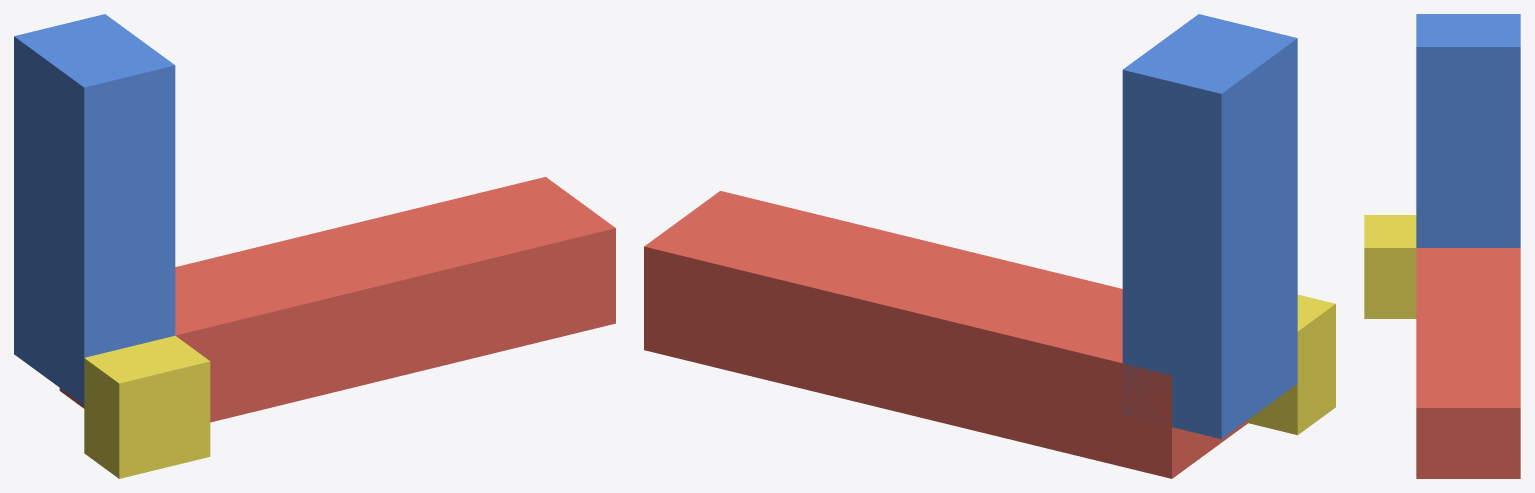
The model's file is bracket.glb.
3 renders of one model, left to right at view 1: azimuth 30°, elevation 25°; view 2: azimuth 150°, elevation 25°; view 3: azimuth 270°, elevation 25°, orthographic. The views are drawn at different scales.
Visible parts, largest first — view 1: BracketBase, BracketUpright, BracketMarker; view 2: BracketBase, BracketUpright, BracketMarker; view 3: BracketUpright, BracketBase, BracketMarker.
Part boxes in pixels (x1,y1,x2,y2): BracketBase: (59,177,615,422); BracketUpright: (14,14,175,405); BracketMarker: (84,335,210,478); BracketBase: (644,191,1248,478); BracketUpright: (1122,14,1297,439); BracketMarker: (1248,294,1335,435); BracketUpright: (1416,14,1520,247); BracketBase: (1416,248,1520,478); BracketMarker: (1364,215,1416,318).
Size of the model in its own units: 0.175 by 0.115 by 0.06.
